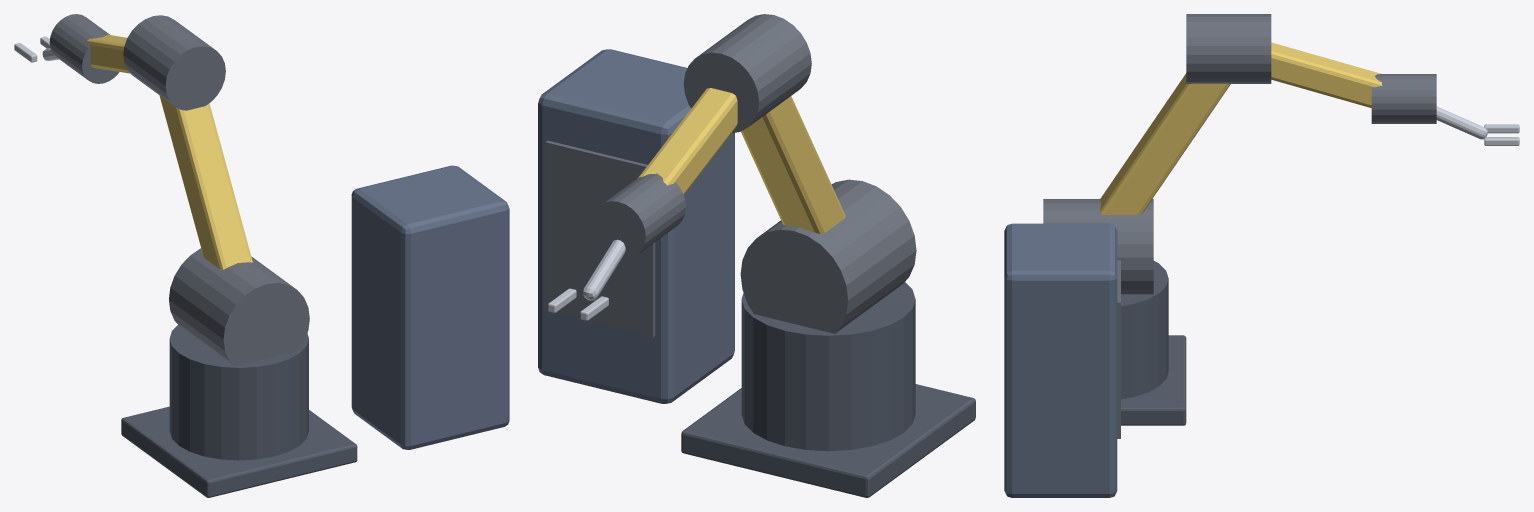
File: robot.glb
3 renders of one model, left to right at view 1: azimuth 30°, elevation 25°; view 2: azimuth 150°, elevation 25°; view 3: azimuth 270°, elevation 25°, orthographic. The views are drawn at different scales.
Parts seen in each view (by area): view 1: Rob_Controller, Rob_J1, Rob_Shoulder, Rob_Plate, Rob_UpperArm, Rob_Elbow, Rob_Wrist, Rob_Forearm; view 2: Rob_Controller, Rob_J1, Rob_Shoulder, Rob_CtrlVent, Rob_Plate, Rob_Elbow, Rob_UpperArm, Rob_Wrist, Rob_Forearm, Rob_Tool; view 3: Rob_Controller, Rob_UpperArm, Rob_Elbow, Rob_J1, Rob_Shoulder, Rob_Forearm, Rob_Plate, Rob_Wrist, Rob_Tool, Rob_CtrlVent.
Boxes of the visible parts, x1=… form: Rob_Controller: x1=351, y1=165, x2=509, y2=449; Rob_J1: x1=169, y1=325, x2=308, y2=460; Rob_Shoulder: x1=169, y1=248, x2=309, y2=366; Rob_Plate: x1=121, y1=406, x2=357, y2=497; Rob_UpperArm: x1=159, y1=95, x2=252, y2=269; Rob_Elbow: x1=123, y1=15, x2=225, y2=110; Rob_Wrist: x1=49, y1=14, x2=119, y2=83; Rob_Forearm: x1=86, y1=34, x2=130, y2=73; Rob_Controller: x1=538, y1=49, x2=734, y2=403; Rob_J1: x1=741, y1=282, x2=915, y2=451; Rob_Shoulder: x1=740, y1=179, x2=916, y2=333; Rob_CtrlVent: x1=545, y1=140, x2=655, y2=337; Rob_Plate: x1=681, y1=384, x2=975, y2=497; Rob_Elbow: x1=683, y1=14, x2=811, y2=133; Rob_UpperArm: x1=741, y1=96, x2=845, y2=233; Rob_Wrist: x1=592, y1=173, x2=685, y2=258; Rob_Forearm: x1=638, y1=88, x2=737, y2=195; Rob_Tool: x1=583, y1=239, x2=625, y2=300; Rob_Controller: x1=1004, y1=223, x2=1117, y2=497; Rob_UpperArm: x1=1100, y1=73, x2=1230, y2=214; Rob_Elbow: x1=1186, y1=14, x2=1271, y2=83; Rob_J1: x1=1121, y1=261, x2=1168, y2=399; Rob_Shoulder: x1=1043, y1=199, x2=1153, y2=294; Rob_Forearm: x1=1271, y1=42, x2=1382, y2=107; Rob_Plate: x1=1121, y1=335, x2=1186, y2=425; Rob_Wrist: x1=1371, y1=74, x2=1436, y2=123; Rob_Tool: x1=1436, y1=106, x2=1487, y2=139; Rob_CtrlVent: x1=1117, y1=260, x2=1120, y2=438.
Size of the model in its own units: 1.4 by 1.64 by 2.05.
